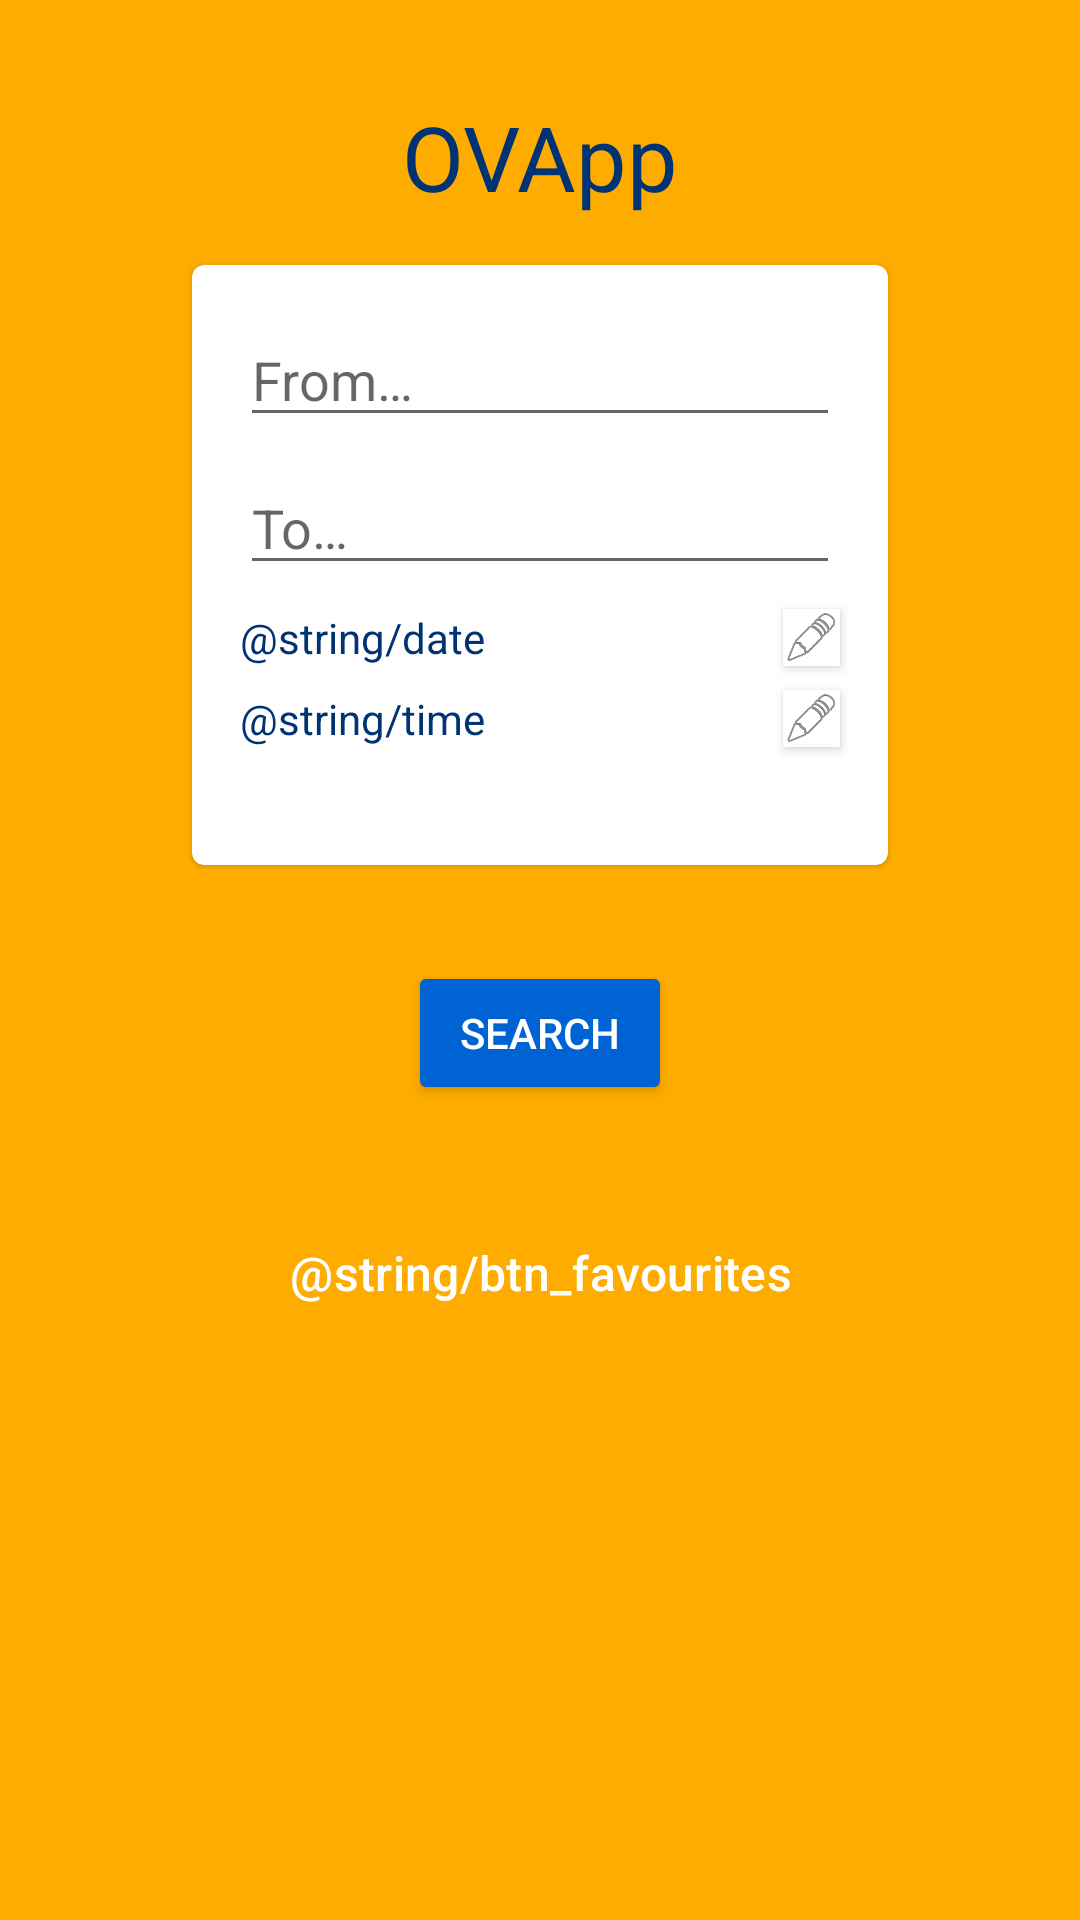

Named icons in this screenshot (1080*1920) and their bounding boxes, [x1,y1,x2,y2]:
edit: [787,613,835,661], [787,694,835,742]
